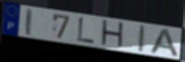7: (51, 13, 71, 40)
A: (148, 28, 181, 59)
H: (100, 18, 125, 51)
I: (25, 7, 34, 37), (137, 24, 146, 53)
L: (76, 16, 96, 45)
